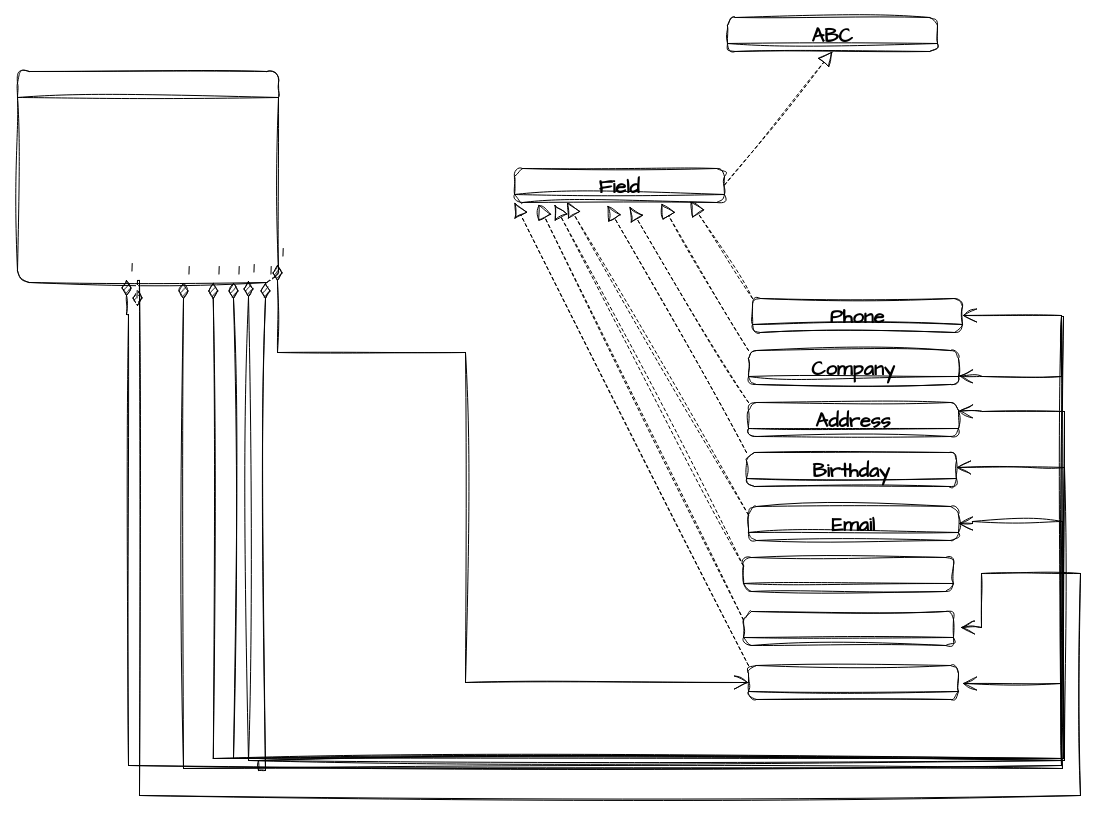
This 1115x830 diagram has some shape labels left out. Each missing label, with the centre of its shape:
Comment: point 848,628
Name: point 853,682
Record Phones Tags Company Address Comment Birthday Name: point 147,176
Tag: point 848,574
